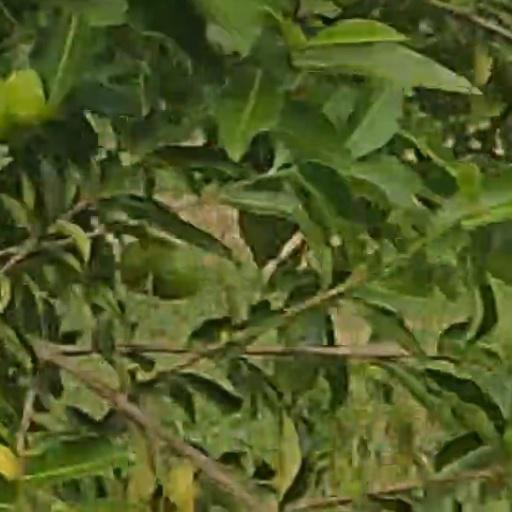acerola_verde: (1, 70, 60, 129), (144, 245, 199, 295)
